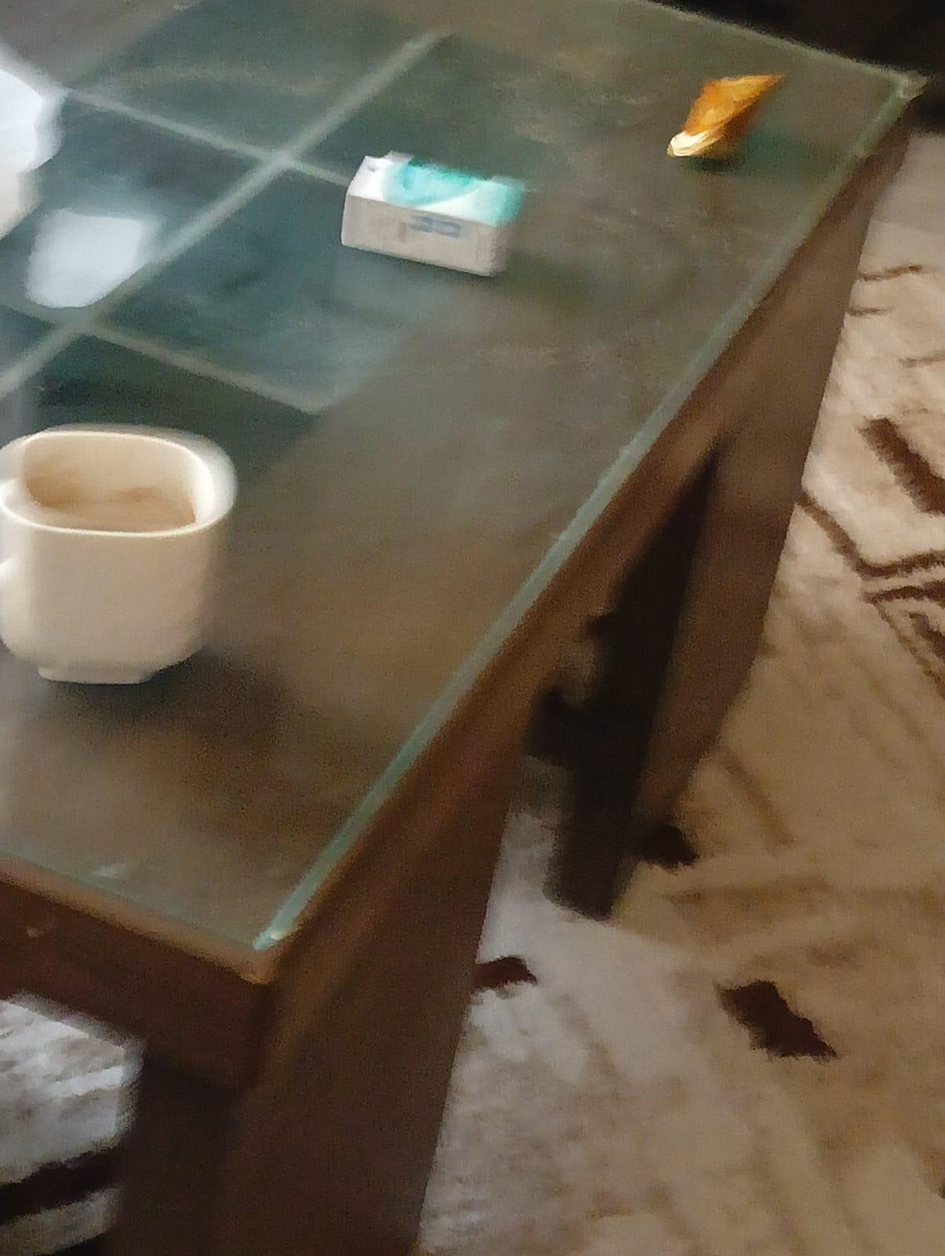cup: (0, 425, 236, 685), (8, 437, 228, 540)
